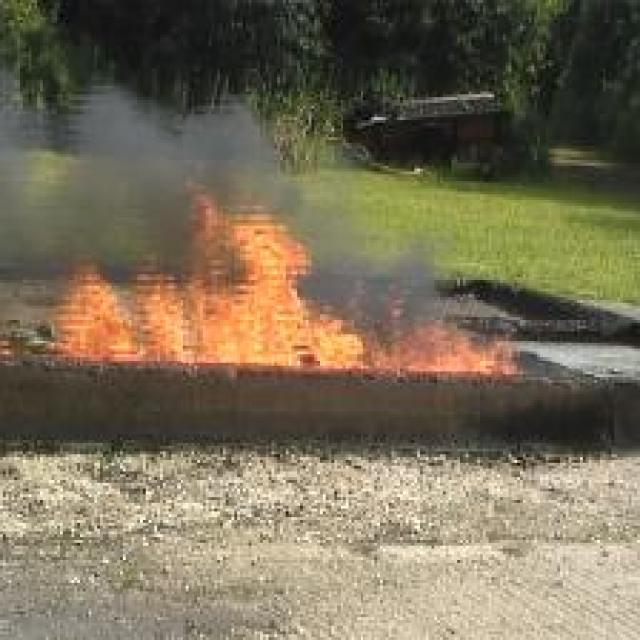Fire: (52, 163, 524, 374)
